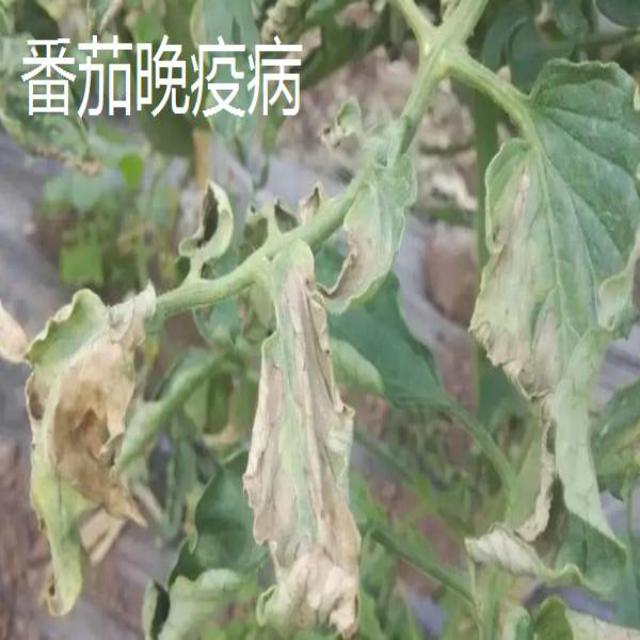Late_blight: (464, 150, 587, 590), (243, 249, 363, 640), (18, 299, 147, 619), (313, 192, 392, 313)
